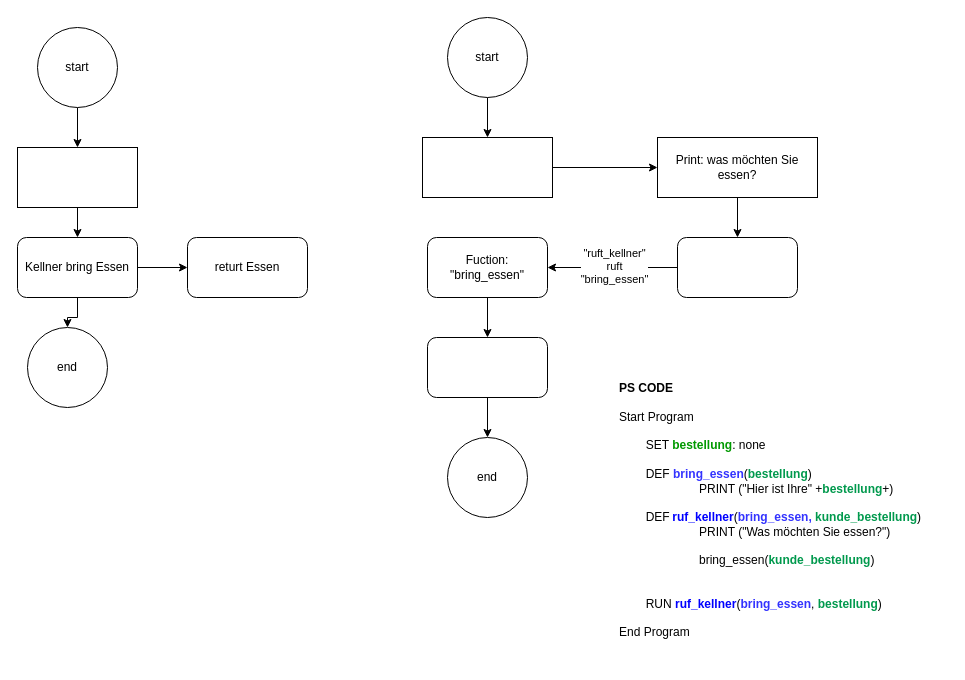
Image size: 965x680. Some labels were removed from this diagram. Each missing label, with the box of its shape:
Function "Ruf Kellner": (422, 136, 552, 198)
input: Essen Wunsch: (676, 236, 798, 298)
Kunden bestellen (Ruf Kellner): (16, 146, 138, 208)
Print: Hier ist Ihre Bestellung: (426, 336, 548, 398)
